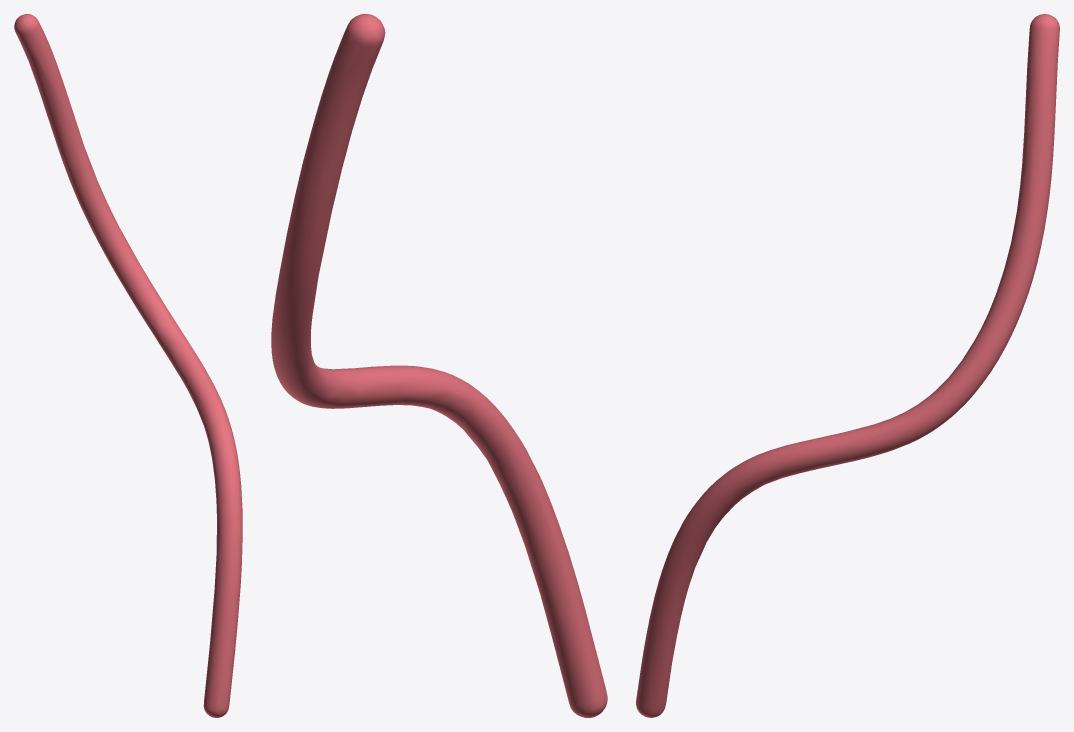
File: fma22766_fj2243.glb
3 renders of one model, left to right at view 1: azimuth 30°, elevation 25°; view 2: azimuth 150°, elevation 25°; view 3: azimuth 270°, elevation 25°, orthographic. The views are drawn at different scales.
Parts seen in each view (by area): view 1: FMA22766_FJ2243; view 2: FMA22766_FJ2243; view 3: FMA22766_FJ2243.
Boxes of the visible parts, x1=… form: FMA22766_FJ2243: x1=14, y1=14, x2=242, y2=717; FMA22766_FJ2243: x1=271, y1=14, x2=607, y2=717; FMA22766_FJ2243: x1=636, y1=14, x2=1059, y2=717.
Size of the model in its own units: 0.0148 by 0.0746 by 0.0416.
